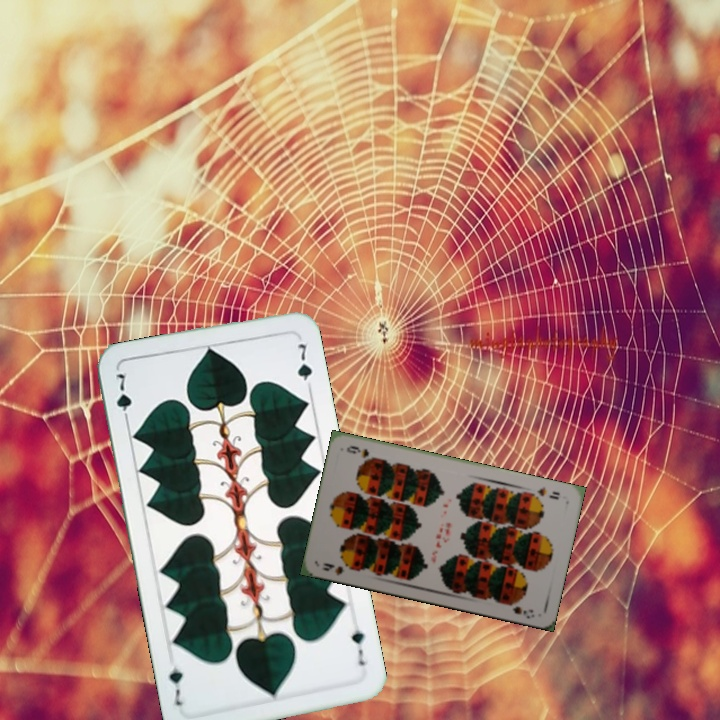G7: (112, 367, 135, 427), (347, 625, 368, 668)
S9: (318, 559, 357, 578), (533, 483, 562, 502)
